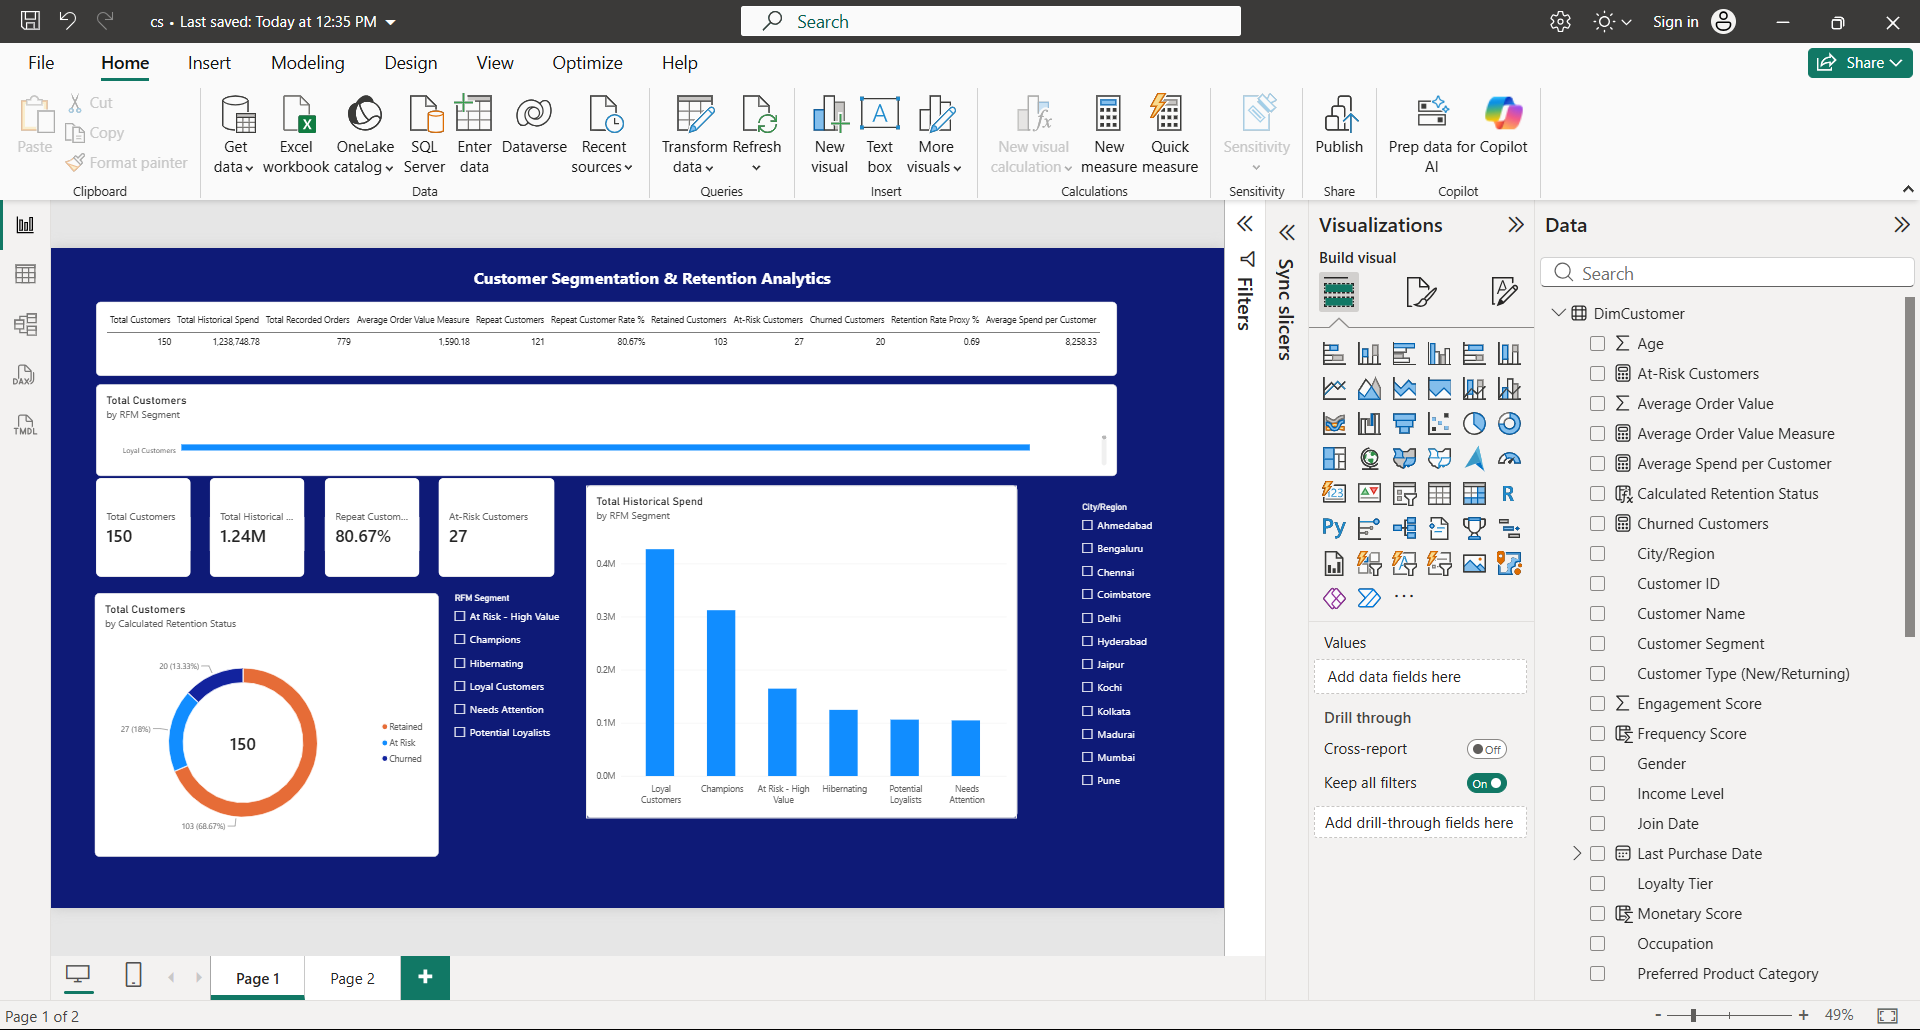

Layout of this report page (visuals, bound fields, positions):
{"tool":"powerbi","page":{"name":"Page 1","canvas":[1920,1080],"ordinal":0},"visuals":[{"type":"tableEx","fields":{"Values":["DimCustomer.Total Customers","DimCustomer.Total Historical Spend","DimCustomer.Total Recorded Orders","DimCustomer.Average Order Value Measure","DimCustomer.Repeat Customers","DimCustomer.Repeat Customer Rate %","DimCustomer.Retained Customers","DimCustomer.At-Risk Customers","DimCustomer.Churned Customers","DimCustomer.Retention Rate Proxy %","DimCustomer.Average Spend per Customer"]},"box":[74,88.3,1672.4,121.7],"z":0},{"type":"textbox","box":[496.2,31,978.1,57.3],"z":1000},{"type":"cardVisual","fields":{"Data":["DimCustomer.Total Customers"]},"box":[74,376.9,155.1,162.2],"z":2000},{"type":"cardVisual","fields":{"Data":["DimCustomer.Total Historical Spend"]},"box":[260.9,376.9,155,162],"z":3000},{"type":"cardVisual","fields":{"Data":["DimCustomer.Repeat Customer Rate %"]},"box":[447.7,376.9,155,162],"z":4000},{"type":"cardVisual","fields":{"Data":["DimCustomer.At-Risk Customers"]},"box":[634.6,376.9,190.9,162.2],"z":5000},{"type":"clusteredBarChart","fields":{"Category":["DimCustomer.RFM Segment"],"Y":["DimCustomer.Total Customers"]},"box":[74,222.5,1672,150],"z":6000},{"type":"clusteredColumnChart","fields":{"Category":["DimCustomer.RFM Segment"],"Y":["DimCustomer.Total Historical Spend"]},"box":[875.6,388.9,706.2,543.9],"z":7000},{"type":"donutChart","fields":{"Category":["DimCustomer.Calculated Retention Status"],"Y":["DimCustomer.Total Customers"]},"box":[71.6,565.4,563,431.8],"z":8000},{"type":"slicer","fields":{"Values":["DimCustomer.City/Region"]},"box":[1679.5,415.1,164.6,517.7],"z":8001},{"type":"slicer","fields":{"Values":["DimCustomer.RFM Segment"]},"box":[653.7,565.4,200.4,431.8],"z":8002}]}

Visuals, with their boxes on the page's 1920x1080 design canvas (x1, y1, x2, y2). These are canvas units, not pixel positions in the 1920x1030 screenshot, which may show the page scaled, cropped or inside an application window:
tableEx - DimCustomer.Total Customers x DimCustomer.Total Historical Spend: rect(74, 88, 1746, 210)
textbox: rect(496, 31, 1474, 88)
cardVisual - DimCustomer.Total Customers: rect(74, 377, 229, 539)
cardVisual - DimCustomer.Total Historical Spend: rect(261, 377, 416, 539)
cardVisual - DimCustomer.Repeat Customer Rate %: rect(448, 377, 603, 539)
cardVisual - DimCustomer.At-Risk Customers: rect(635, 377, 826, 539)
clusteredBarChart - DimCustomer.RFM Segment x DimCustomer.Total Customers: rect(74, 222, 1746, 372)
clusteredColumnChart - DimCustomer.RFM Segment x DimCustomer.Total Historical Spend: rect(876, 389, 1582, 933)
donutChart - DimCustomer.Calculated Retention Status x DimCustomer.Total Customers: rect(72, 565, 635, 997)
slicer - DimCustomer.City/Region: rect(1680, 415, 1844, 933)
slicer - DimCustomer.RFM Segment: rect(654, 565, 854, 997)
